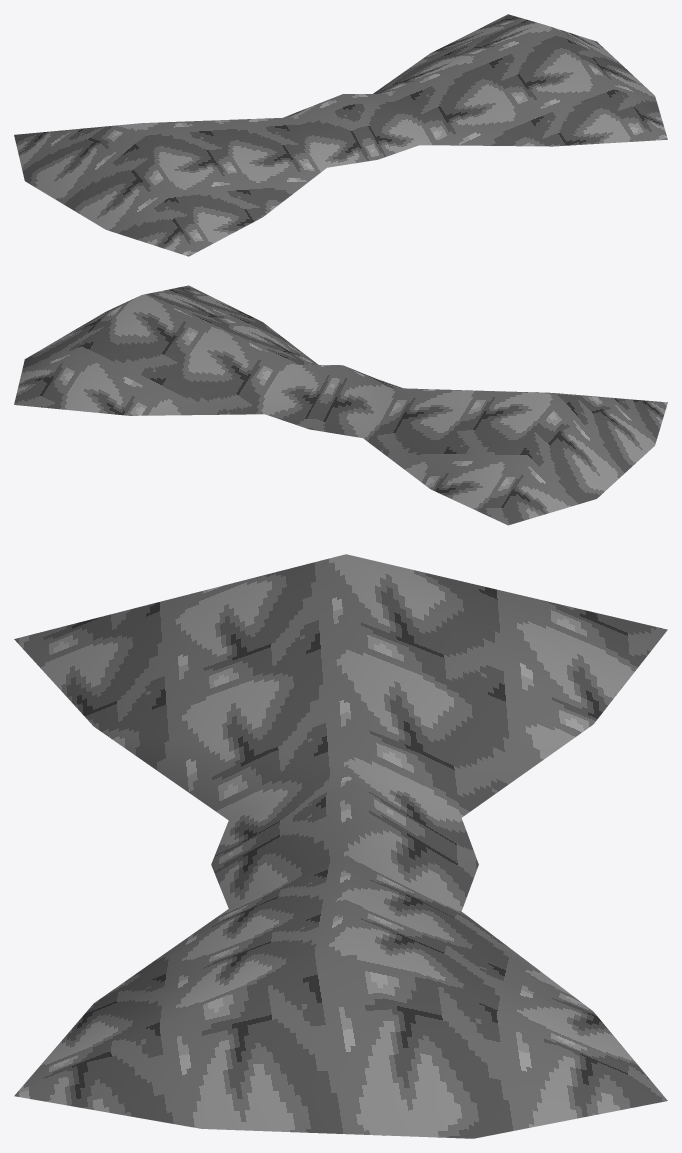
The model's file is 2944head094_c.gltf.
3 renders of one model, top to bottom at view 1: azimuth 30°, elevation 25°; view 2: azimuth 150°, elevation 25°; view 3: azimuth 270°, elevation 25°, orthographic. The views are drawn at different scales.
Visible parts, largest first — view 1: 2944head094_c; view 2: 2944head094_c; view 3: 2944head094_c.
Part boxes in pixels (left/top/right/bottom): 2944head094_c: left=14, top=14, right=667, bottom=256; 2944head094_c: left=14, top=285, right=667, bottom=525; 2944head094_c: left=14, top=554, right=667, bottom=1138.
Bounding box in the file's own units: 0.8569 × 0.0891 × 0.4341.
1 material, 1 textured.
